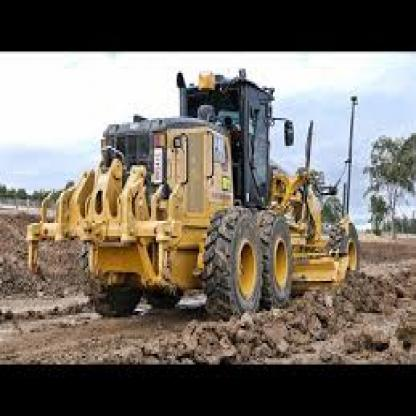bull_dozer/loader/grader: (31, 60, 374, 320)
